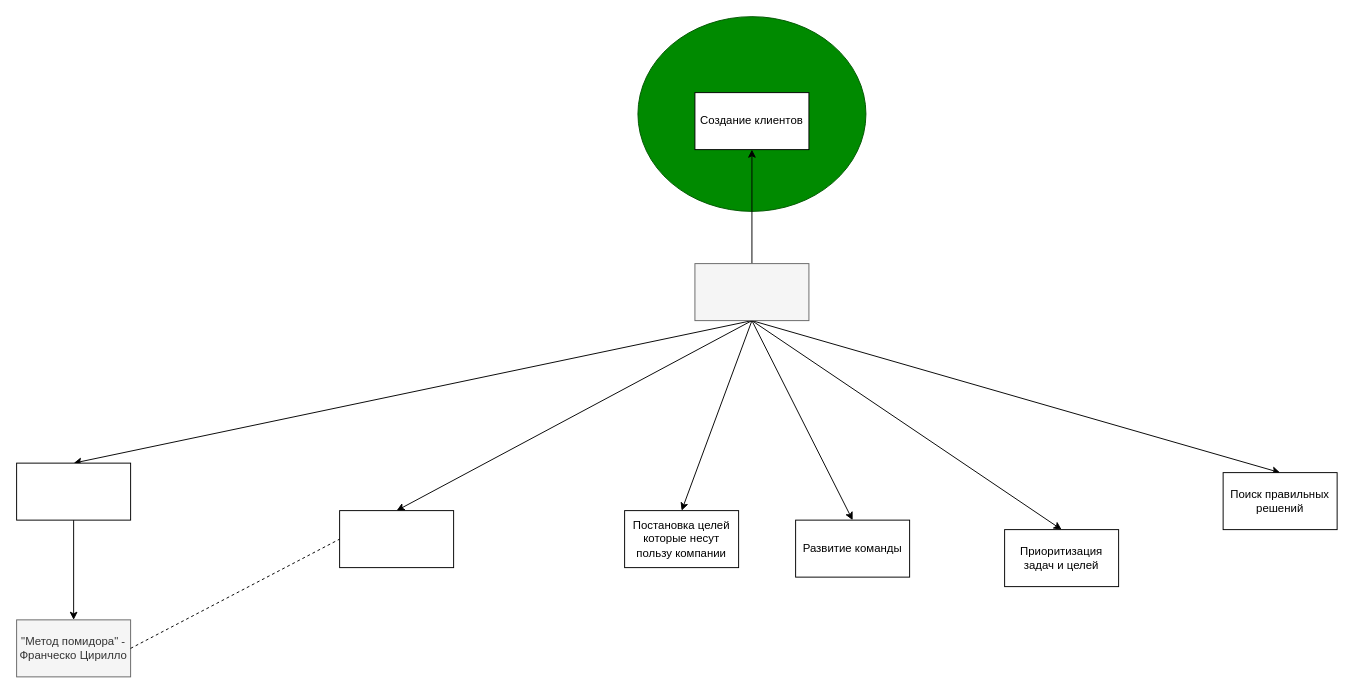
The diagram is 1354 pixels wide and 694 high, and some of its shapes have lost their labels. Each missing label, with the centre of its shape:
"Контроль времени" belongs at (x=73, y=491).
"Развитие себя" belongs at (x=396, y=539).
"Эффективность" belongs at (x=751, y=292).
